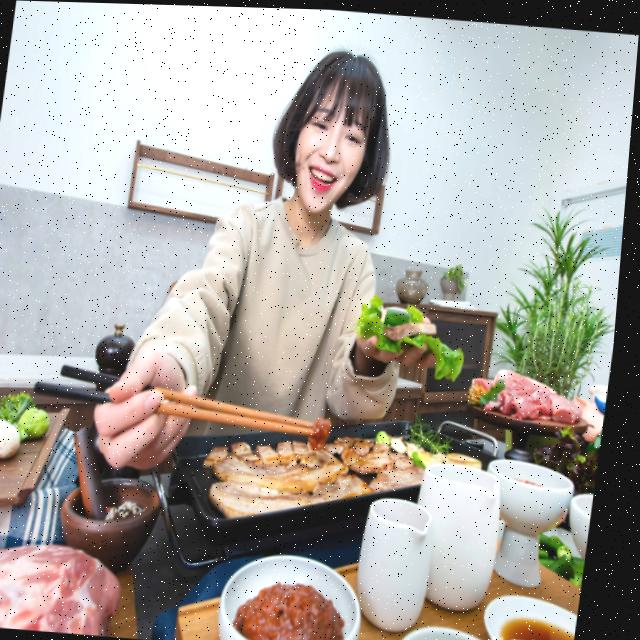eating-person: (12, 17, 550, 559)
